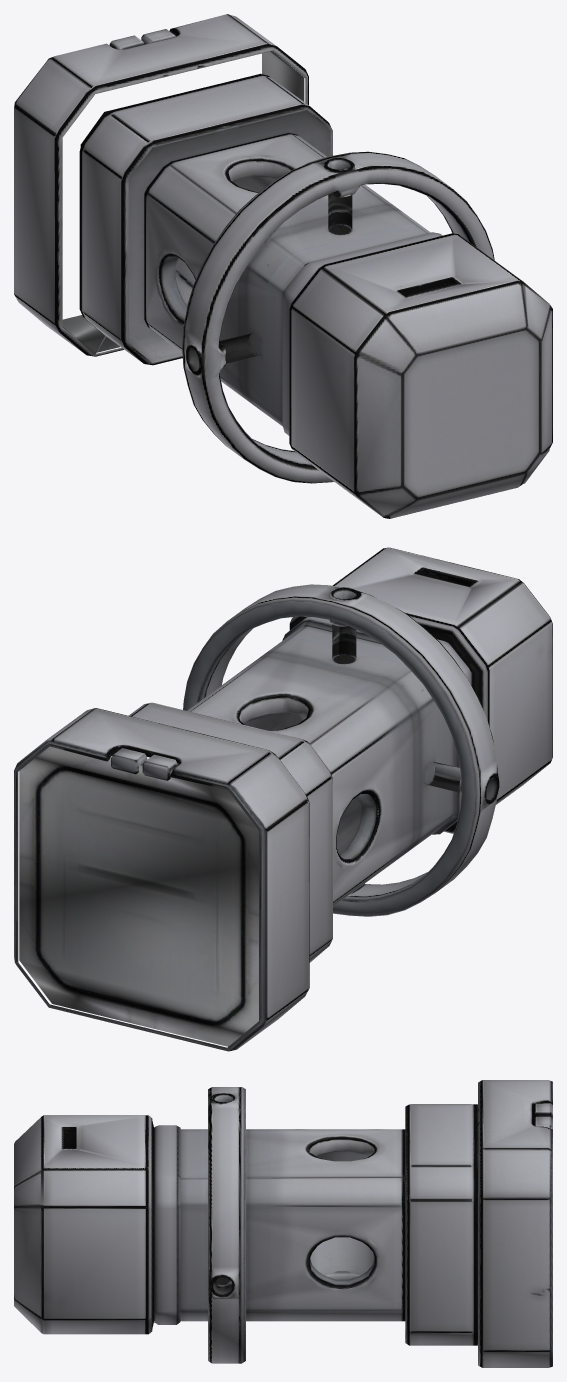
File: tip_2.glb
3 views of the same model, one above another, from view 1: azimuth 30°, elevation 25°; view 2: azimuth 150°, elevation 25°; view 3: azimuth 270°, elevation 25° (orthographic). The views are drawn at different scales.
Visible parts, largest first — view 1: tripo_node_d86bc963-742e-4f48-9104-d34043c6b276; view 2: tripo_node_d86bc963-742e-4f48-9104-d34043c6b276; view 3: tripo_node_d86bc963-742e-4f48-9104-d34043c6b276.
Part boxes in pixels (x1,y1,x2,y2): tripo_node_d86bc963-742e-4f48-9104-d34043c6b276: (14, 14, 552, 518); tripo_node_d86bc963-742e-4f48-9104-d34043c6b276: (14, 547, 552, 1051); tripo_node_d86bc963-742e-4f48-9104-d34043c6b276: (14, 1080, 552, 1367).
Bounding box in the file's own units: 0.0983 × 0.0983 × 0.1896.
1 material, 1 textured.
